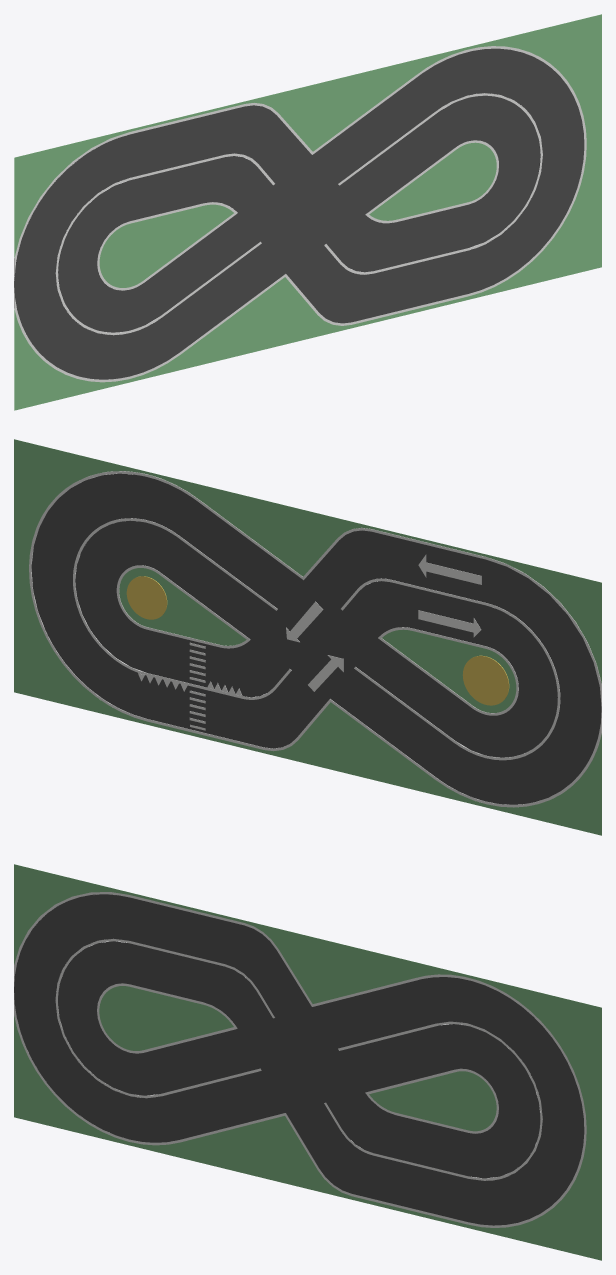
3 views of the same model, one above another, from view 1: azimuth 30°, elevation 25°; view 2: azimuth 150°, elevation 25°; view 3: azimuth 330°, elevation 25° (orthographic).
Visible parts, largest first — view 1: Body11, Body12, Body1, Body10, Body15, Body16, Body14, Body17, Body13; view 2: Body11, Body12, Body15, Body1, Body10, Body14, Body46, Body16, Body45, Body17, Body13, Body25 (+2 smaller); view 3: Body11, Body12, Body1, Body10, Body15, Body16, Body14, Body17, Body13.
Boxes of the visible parts, x1,y1,x2,y2 form: Body11: (14,48,584,379); Body12: (14,14,601,410); Body1: (99,204,233,287); Body10: (369,142,496,220); Body15: (14,46,586,382); Body16: (55,153,274,335); Body14: (324,93,542,274); Body17: (97,202,237,290); Body13: (365,140,498,223); Body11: (31,473,601,804); Body12: (14,439,601,835); Body15: (29,471,601,807); Body1: (382,629,516,712); Body10: (119,568,246,645); Body14: (73,518,291,699); Body46: (462,655,509,705); Body16: (341,578,560,760); Body45: (126,576,167,619); Body17: (378,627,518,715); Body13: (116,565,250,648); Body25: (418,554,481,584); Body11: (14,894,584,1225); Body12: (14,864,601,1260); Body1: (99,986,233,1050); Body10: (369,1071,496,1131); Body15: (14,892,586,1227); Body16: (55,938,274,1098); Body14: (324,1021,542,1180); Body17: (97,983,237,1053); Body13: (365,1068,498,1133).
Bounding box in the file's own units: 2276 × 936 × 2.75.
